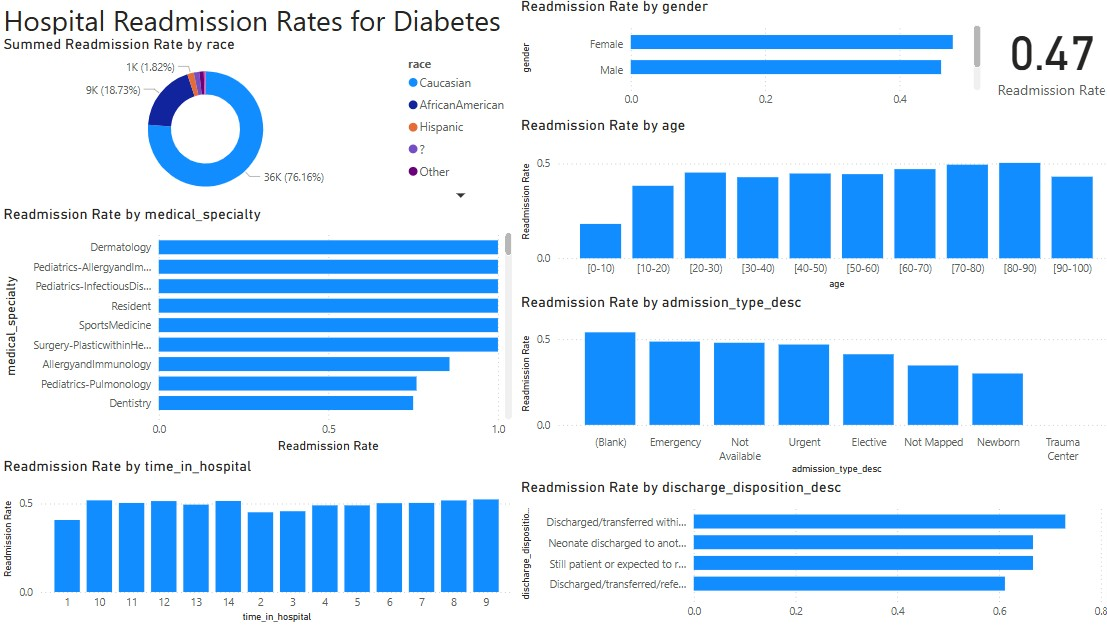

Layout of this report page (visuals, bound fields, positions):
{"tool":"powerbi","page":{"name":"Page 1","canvas":[1280,720],"ordinal":0},"visuals":[{"type":"card","fields":{"Values":["public readmission_dashboard_data (2).Readmission Rate"]},"box":[1127.1,0,152.9,135.7],"z":0},{"type":"textbox","box":[0,0,591.4,58.6],"z":1},{"type":"clusteredColumnChart","fields":{"Y":["public readmission_dashboard_data (2).Readmission Rate"],"Category":["public readmission_dashboard_data (2).age"]},"box":[591.4,135.7,688.6,202.9],"z":2},{"type":"donutChart","fields":{"Category":["public readmission_dashboard_data (2).race"],"Y":["public readmission_dashboard_data (2).Summed Readmission Rate"]},"box":[0,42.9,591.4,197.1],"z":4},{"type":"clusteredBarChart","fields":{"Category":["public readmission_dashboard_data (2).gender"],"Y":["public readmission_dashboard_data (2).Readmission Rate"]},"box":[591.4,0,535.7,135.7],"z":6},{"type":"clusteredColumnChart","fields":{"Y":["public readmission_dashboard_data (2).Readmission Rate"],"Category":["public readmission_dashboard_data (2).admission_type_desc"]},"box":[591.4,338.6,688.6,211.4],"z":7},{"type":"clusteredColumnChart","fields":{"Y":["public readmission_dashboard_data (2).Readmission Rate"],"Category":["public readmission_dashboard_data (2).time_in_hospital"]},"box":[0,525.7,591.4,194.3],"z":8},{"type":"clusteredBarChart","fields":{"Y":["public readmission_dashboard_data (2).Readmission Rate"],"Category":["public readmission_dashboard_data (2).discharge_disposition_desc"]},"box":[591,550,689,170],"z":9},{"type":"clusteredBarChart","fields":{"Category":["public readmission_dashboard_data (2).medical_specialty"],"Y":["public readmission_dashboard_data (2).Readmission Rate"]},"box":[0,237.1,591.4,288.6],"z":10}]}

Visuals, with their boxes in screenshot pixels (x1, y1, x2, y2), scaled from the page's 1280x720 canvas onto the 1107x627 screenshot:
card - public readmission_dashboard_data (2).Readmission Rate: 975, 0, 1106, 118
textbox: 0, 0, 511, 51
clusteredColumnChart - public readmission_dashboard_data (2).Readmission Rate x public readmission_dashboard_data (2).age: 511, 118, 1106, 295
donutChart - public readmission_dashboard_data (2).race x public readmission_dashboard_data (2).Summed Readmission Rate: 0, 37, 511, 209
clusteredBarChart - public readmission_dashboard_data (2).gender x public readmission_dashboard_data (2).Readmission Rate: 511, 0, 975, 118
clusteredColumnChart - public readmission_dashboard_data (2).Readmission Rate x public readmission_dashboard_data (2).admission_type_desc: 511, 295, 1106, 479
clusteredColumnChart - public readmission_dashboard_data (2).Readmission Rate x public readmission_dashboard_data (2).time_in_hospital: 0, 458, 511, 626
clusteredBarChart - public readmission_dashboard_data (2).Readmission Rate x public readmission_dashboard_data (2).discharge_disposition_desc: 511, 479, 1106, 626
clusteredBarChart - public readmission_dashboard_data (2).medical_specialty x public readmission_dashboard_data (2).Readmission Rate: 0, 206, 511, 458
